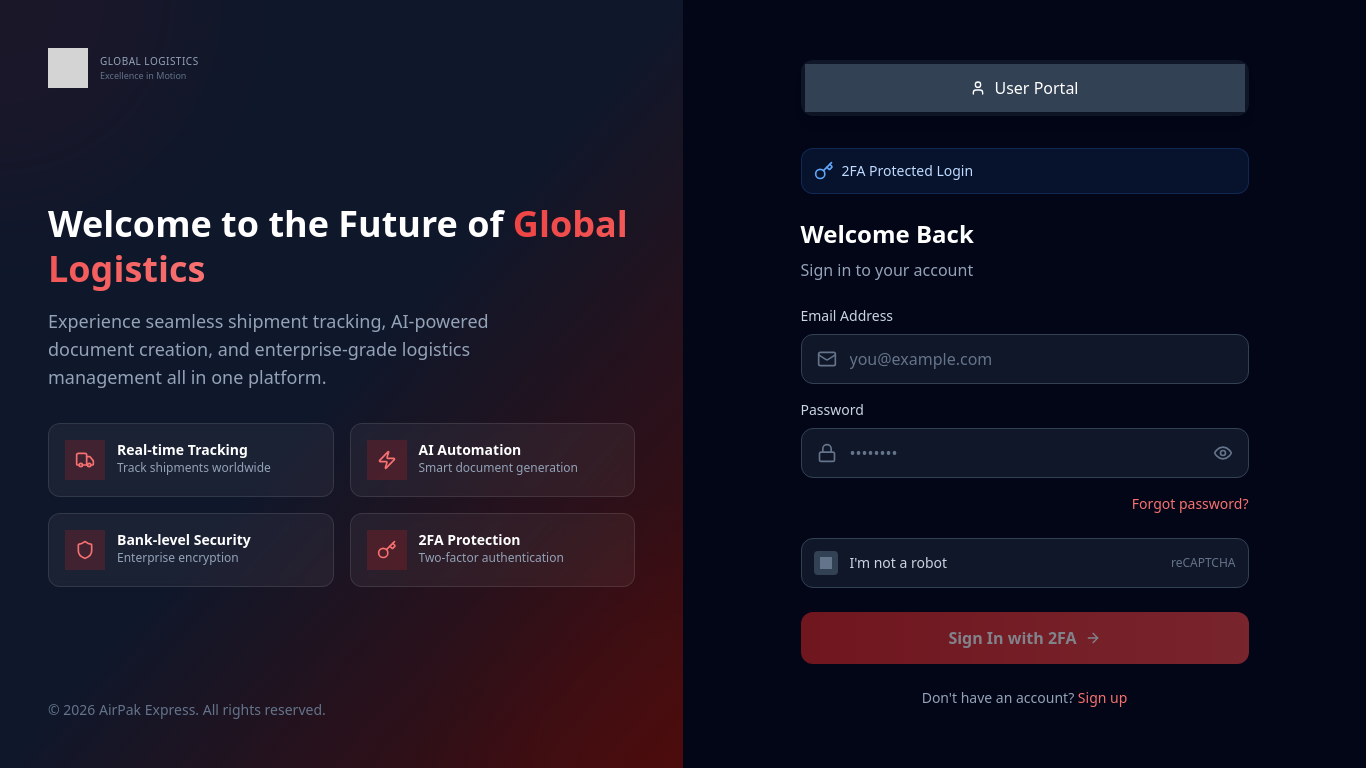
Test: UnifiedAuthPage › Security Features › should display 2FA badge only in login mode
The width and height of the screenshot is (1366, 768).
Expected: the text "2FA Protected Login" is shown, [842, 161, 973, 181]
Switch to register
Click the button "Sign up": (1103, 698) [1078, 688, 1127, 708]
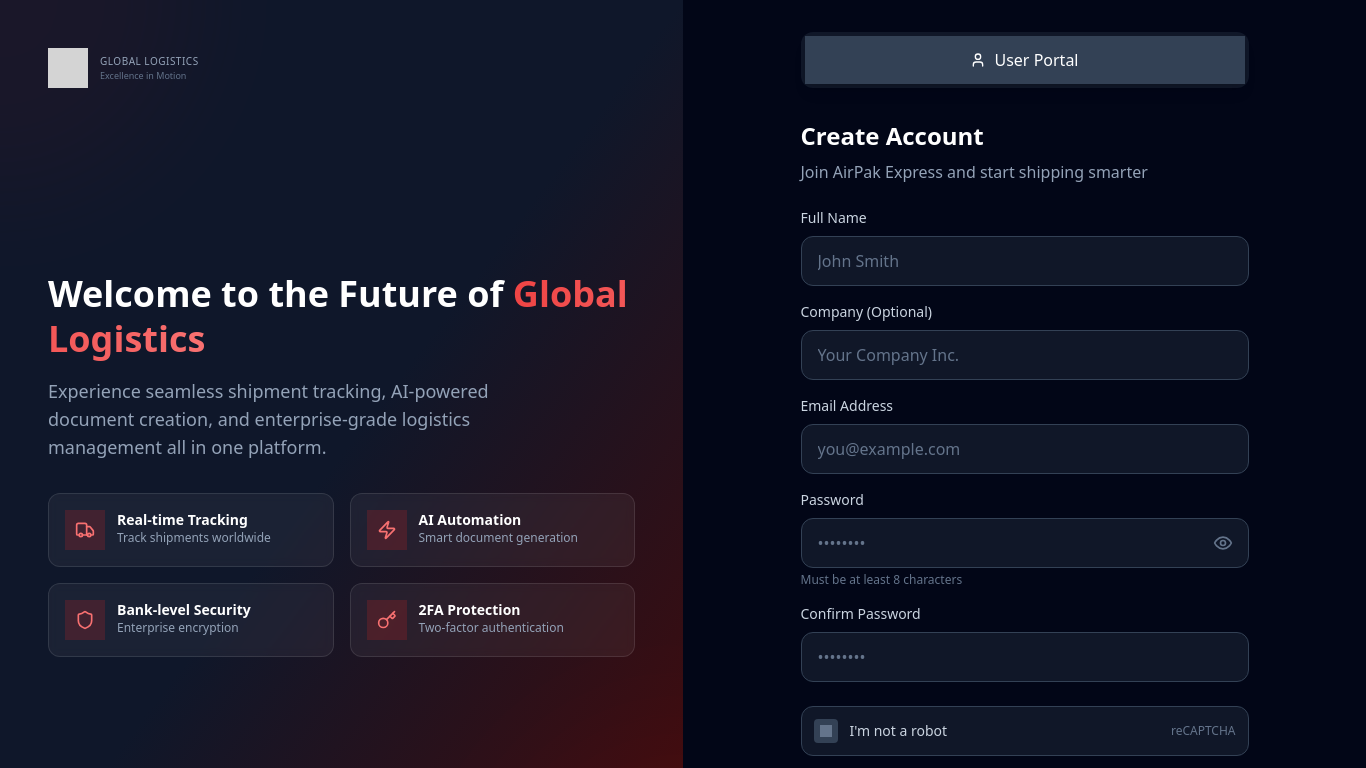
Result: the text "2FA Protected Login" is gone
